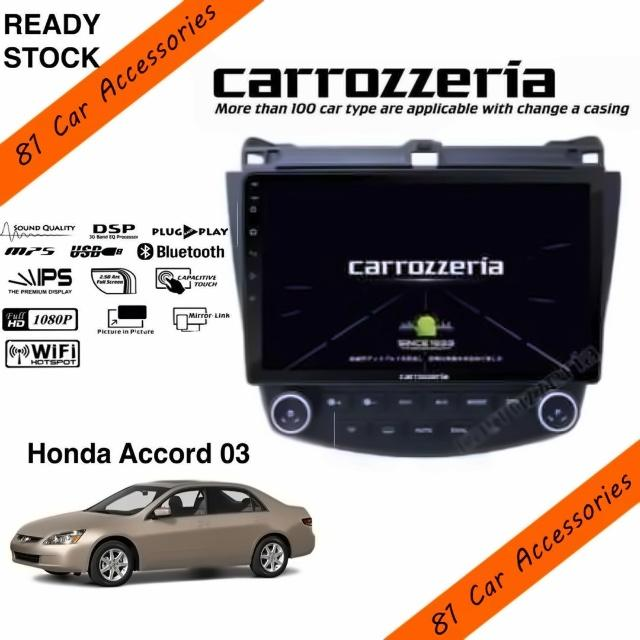Car hood: (16, 507, 135, 534)
Fender - -F-L-: (85, 512, 150, 573)
Fender - -R-L-: (252, 512, 316, 566)
Front bumper: (6, 538, 91, 575)
Headlight - -L-: (40, 522, 91, 552)
Passenger-s door - -F-L-: (146, 485, 209, 564)
Passenger-s door - -R-L-: (206, 482, 264, 564)
Rear bumper: (286, 533, 320, 565)
Rear light - -L-: (289, 513, 316, 532)
Side bumper - -L-: (131, 554, 256, 574)
Side mirror - -L-: (144, 504, 177, 523)
